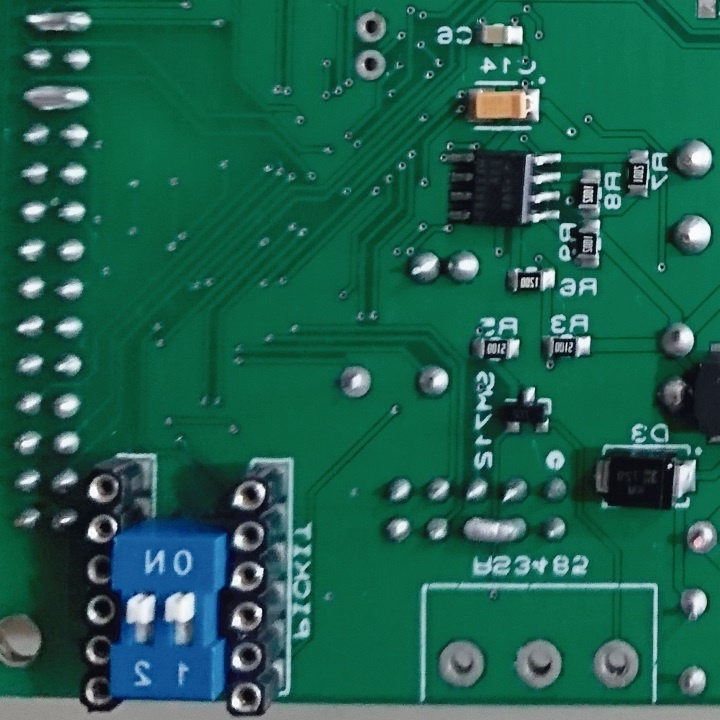F: (512, 635, 566, 691), (436, 635, 487, 691), (593, 635, 643, 690), (333, 361, 375, 400), (682, 517, 719, 557), (676, 662, 710, 700), (678, 583, 710, 623), (353, 10, 387, 46), (354, 47, 387, 84)
P: (17, 83, 93, 118), (20, 6, 96, 40), (457, 513, 531, 546)
